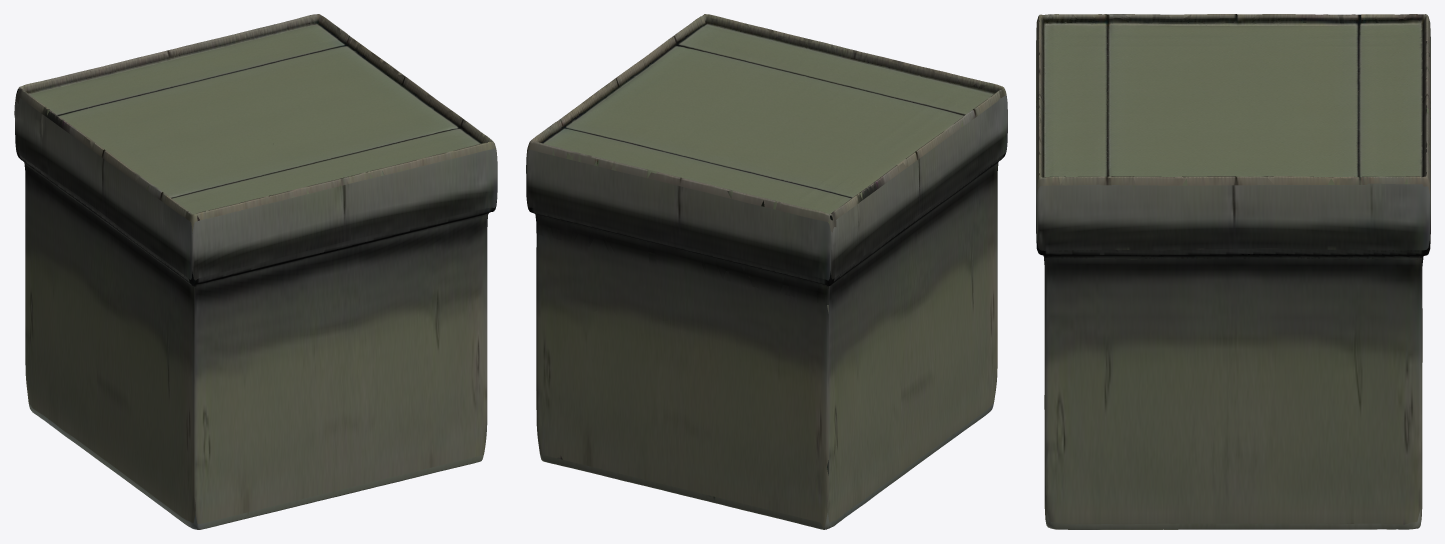
Rendered from feature-fuel-canopy.glb.
3 renders of one model, left to right at view 1: azimuth 30°, elevation 25°; view 2: azimuth 150°, elevation 25°; view 3: azimuth 270°, elevation 25°, orthographic. The views are drawn at different scales.
Visible parts, largest first — view 1: tmp6lu77eab.ply; view 2: tmp6lu77eab.ply; view 3: tmp6lu77eab.ply.
Part boxes in pixels (<box>): tmp6lu77eab.ply: <box>14,14,497,529</box>; tmp6lu77eab.ply: <box>526,14,1007,529</box>; tmp6lu77eab.ply: <box>1036,14,1430,529</box>.
Bounding box in the file's own units: 1 × 1 × 1.
Materials: 1 (1 with a texture image).
